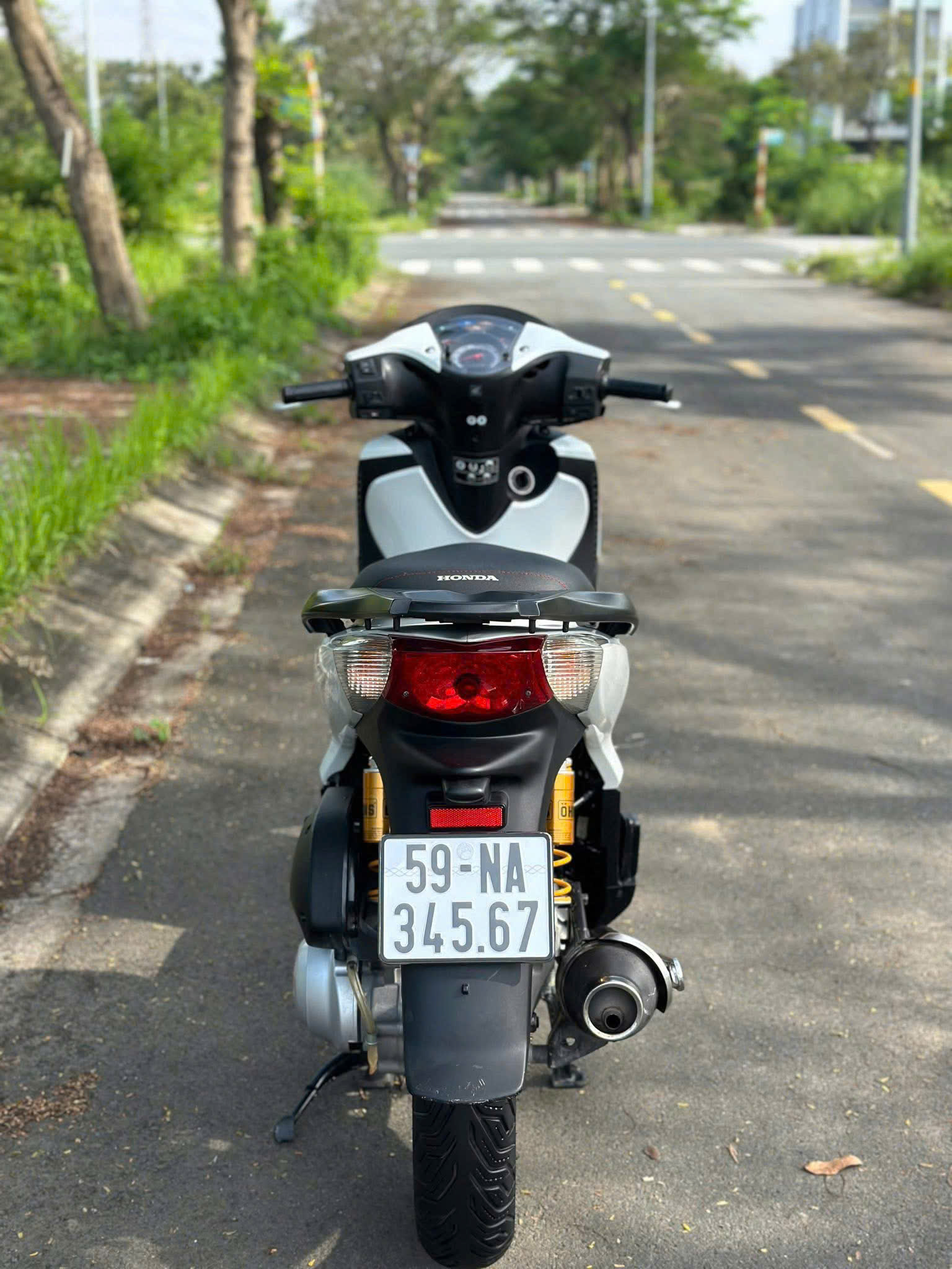Bien-so: (383, 839, 560, 958)
